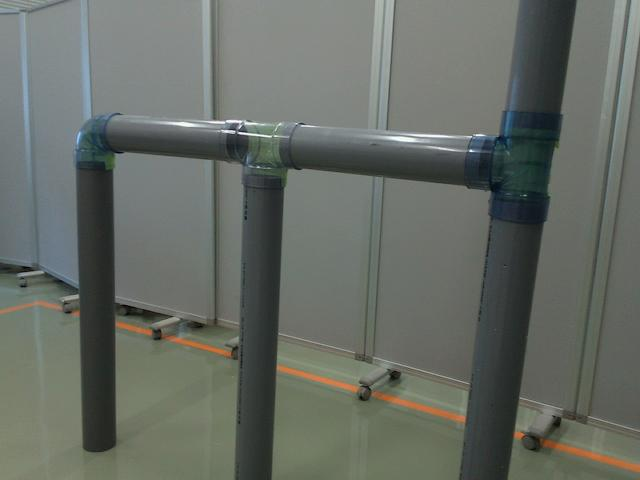bent: (73, 111, 124, 170)
junction: (468, 104, 562, 224), (217, 116, 311, 187)
